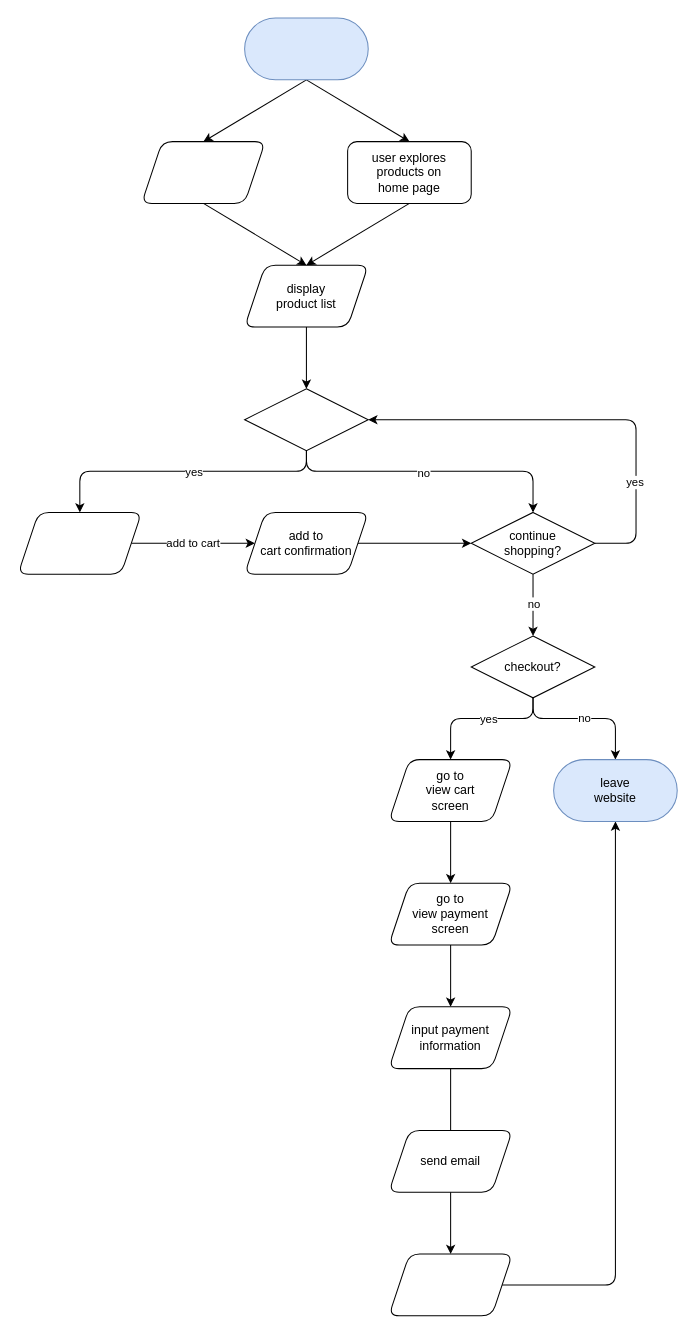
The diagram is 695 pixels wide and 1334 high, and some of its shapes have lost their labels. Here are the shapes that lost their labels. From the top down, the centre of each, then its label:
At point (306, 48): "user enters website".
At point (203, 172): "user searches a product".
At point (306, 419): "view item?".
At point (79, 542): "go to product page".
At point (450, 1284): "show order confirmation".
